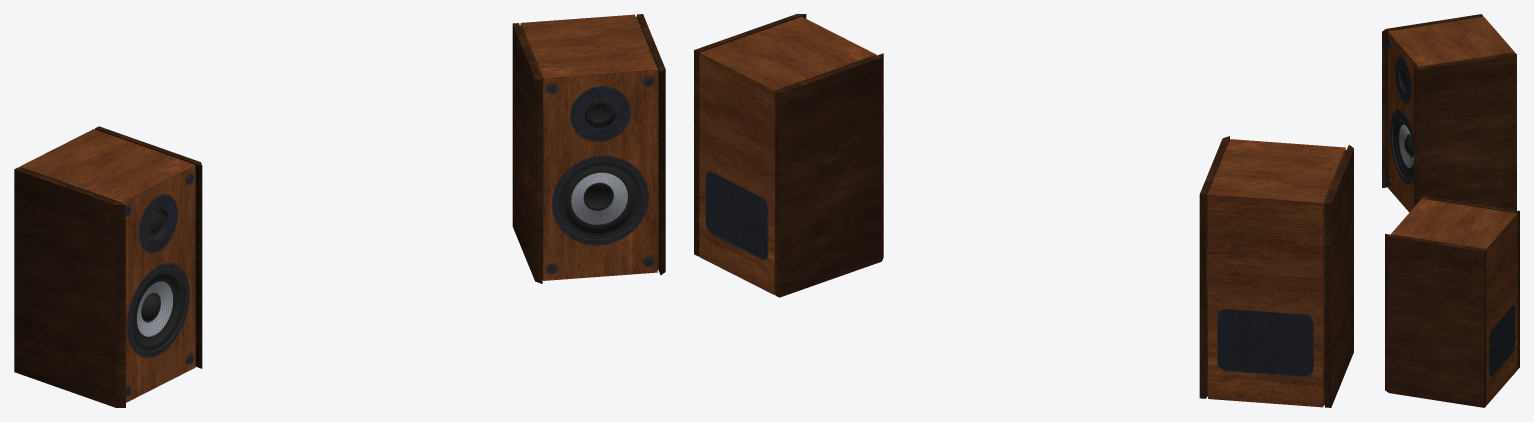
The model's file is ParlanteEXPORT.glb.
3 views of the same model, side by side, from view 1: azimuth 30°, elevation 25°; view 2: azimuth 150°, elevation 25°; view 3: azimuth 270°, elevation 25° (orthographic). The views are drawn at different scales.
Parts seen in each view (by area): view 1: Parlante; view 2: Parlante; view 3: Parlante.
Boxes of the visible parts, left/top/right/bottom form: Parlante: left=14, top=14, right=665, bottom=407; Parlante: left=694, top=14, right=1353, bottom=407; Parlante: left=1382, top=14, right=1519, bottom=407.
Size of the model in its own units: 20 by 6.15 by 4.91.
1 material, 1 textured.
